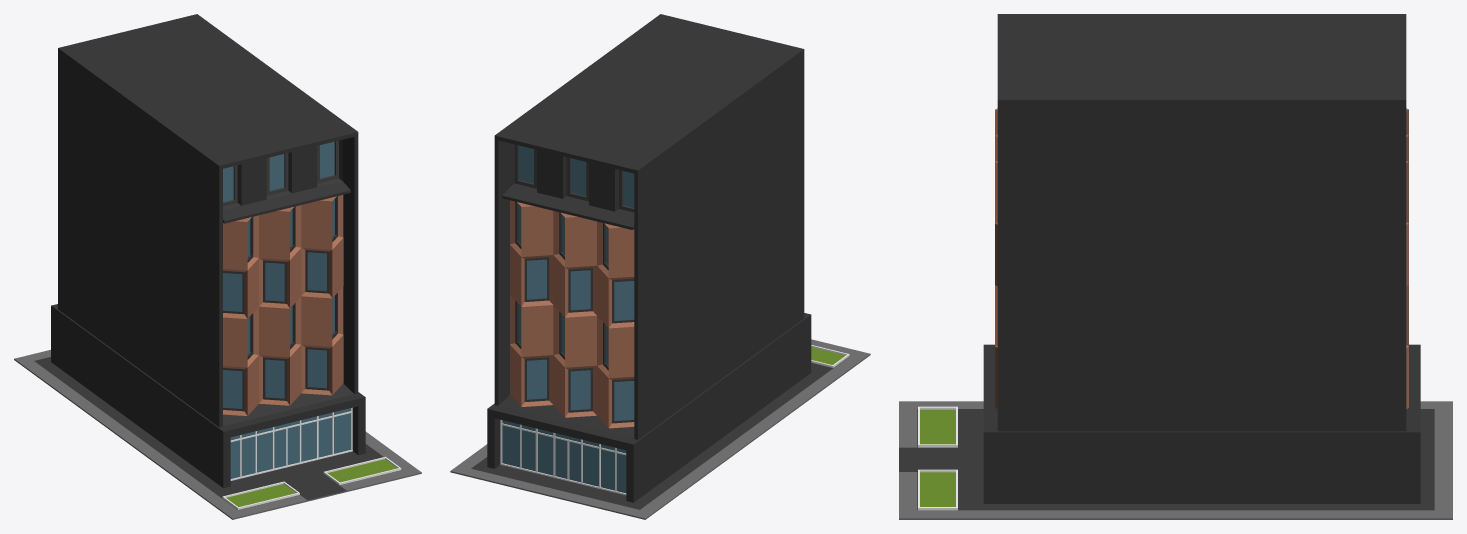
File: flats-d.glb
The picture shows the model from 3 angles, left to right: view 1: azimuth 30°, elevation 25°; view 2: azimuth 150°, elevation 25°; view 3: azimuth 270°, elevation 25°; orthographic projection. The views are drawn at different scales.
Parts seen in each view (by area): view 1: highlivingbuilding_d; view 2: highlivingbuilding_d; view 3: highlivingbuilding_d.
Part boxes in pixels (left/top/right/bottom): highlivingbuilding_d: left=14, top=14, right=421, bottom=519; highlivingbuilding_d: left=450, top=14, right=870, bottom=519; highlivingbuilding_d: left=899, top=14, right=1452, bottom=519.
Bounding box in the file's own units: 15 × 24.18 × 30.
Materials: 1 (1 with a texture image).
